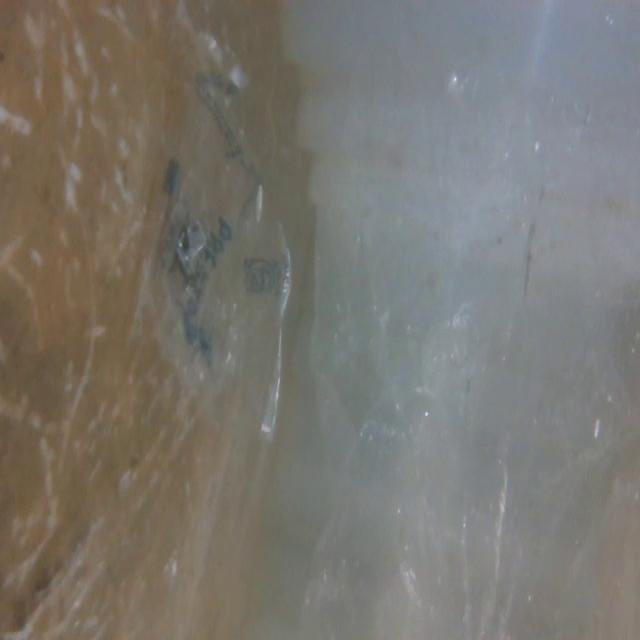plastic bags: (131, 84, 306, 448)
